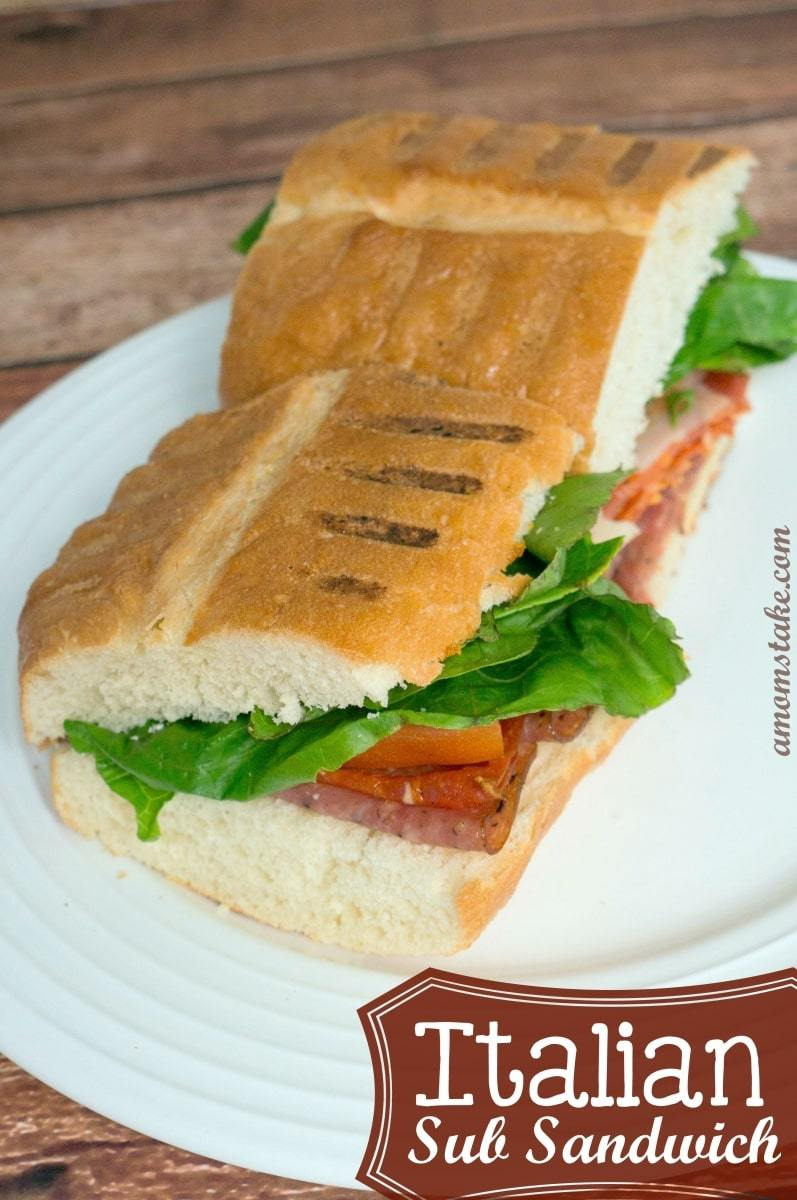sandwich: (10, 47, 797, 1025)
